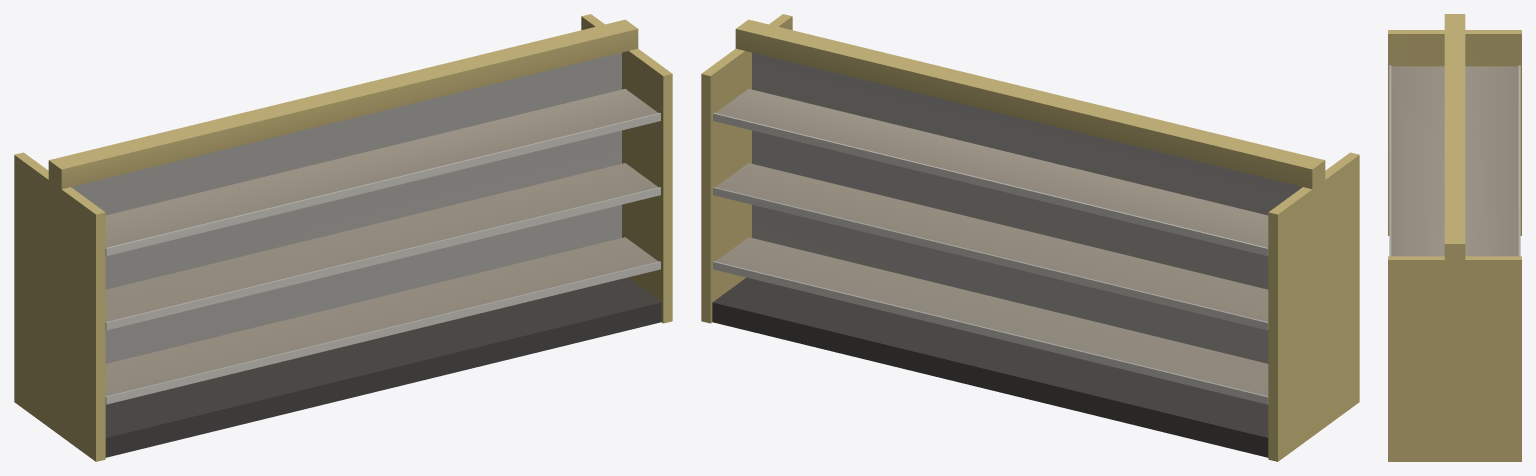
Rendered from mall_gondola.glb.
3 views of the same model, side by side, from view 1: azimuth 30°, elevation 25°; view 2: azimuth 150°, elevation 25°; view 3: azimuth 270°, elevation 25° (orthographic). The views are drawn at different scales.
Parts seen in each view (by area): view 1: mall.gondola; view 2: mall.gondola; view 3: mall.gondola.
Part boxes in pixels (bbox=[...]): mall.gondola: bbox=[14, 14, 672, 461]; mall.gondola: bbox=[701, 14, 1359, 461]; mall.gondola: bbox=[1388, 14, 1521, 461].
Bounding box in the file's own units: 3.66 × 1.62 × 0.9.
